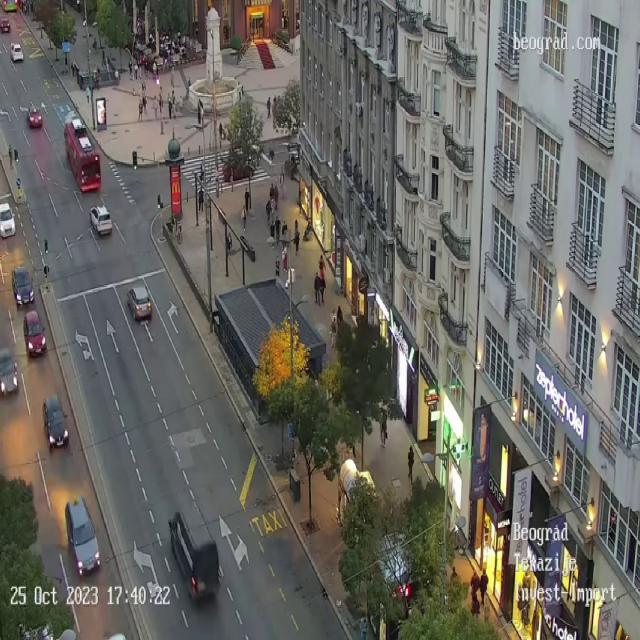bus: (64, 117, 101, 193)
car: (167, 508, 220, 597), (64, 495, 100, 577), (42, 393, 69, 449), (23, 310, 46, 358), (12, 266, 34, 308), (126, 286, 152, 321), (0, 347, 18, 396), (90, 205, 112, 236), (0, 198, 14, 236), (28, 107, 42, 128), (10, 43, 24, 62)
